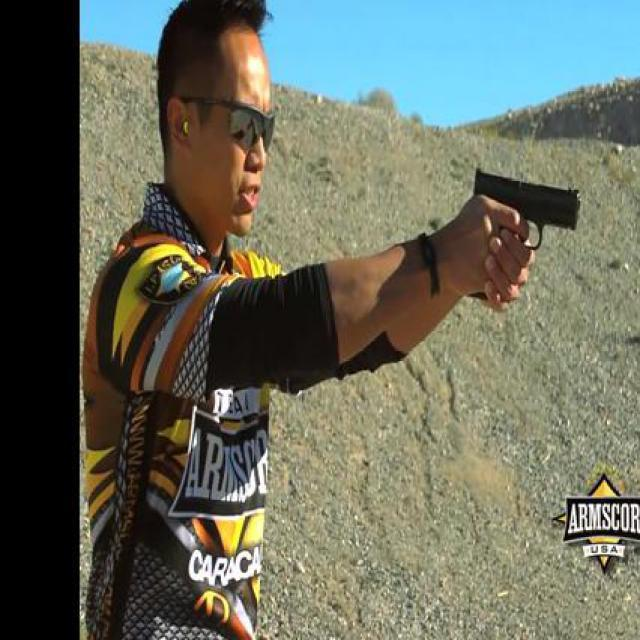gun: (466, 165, 582, 308)
